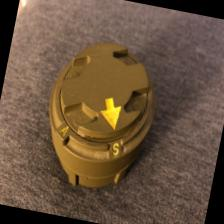M14: (30, 38, 168, 203)
